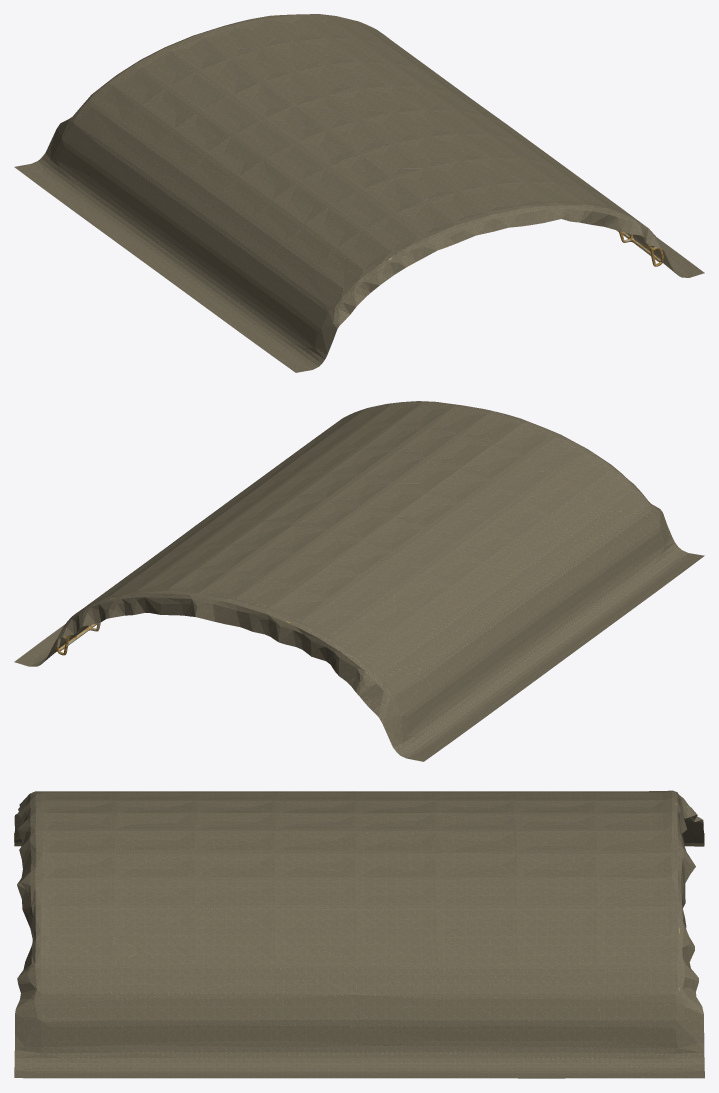
File: military_tent_hangar.glb
3 renders of one model, top to bottom at view 1: azimuth 30°, elevation 25°; view 2: azimuth 150°, elevation 25°; view 3: azimuth 270°, elevation 25°, orthographic. The views are drawn at different scales.
Parts seen in each view (by area): view 1: tent; view 2: tent; view 3: tent.
Boxes of the visible parts, x1,y1,x2,y2 form: tent: [14, 14, 704, 372]; tent: [14, 401, 704, 761]; tent: [14, 790, 704, 1078].
Size of the model in its own units: 68.14 by 16.38 by 80.9.
2 materials, 2 textured.
